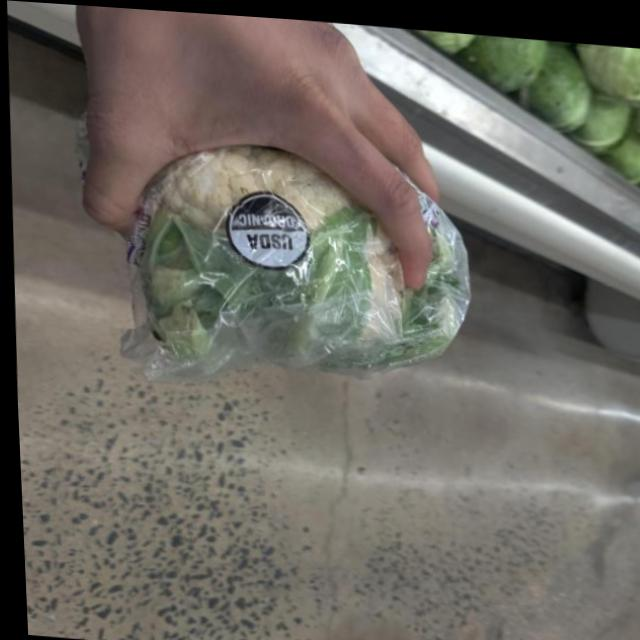Cauliflower: (96, 101, 479, 391)
